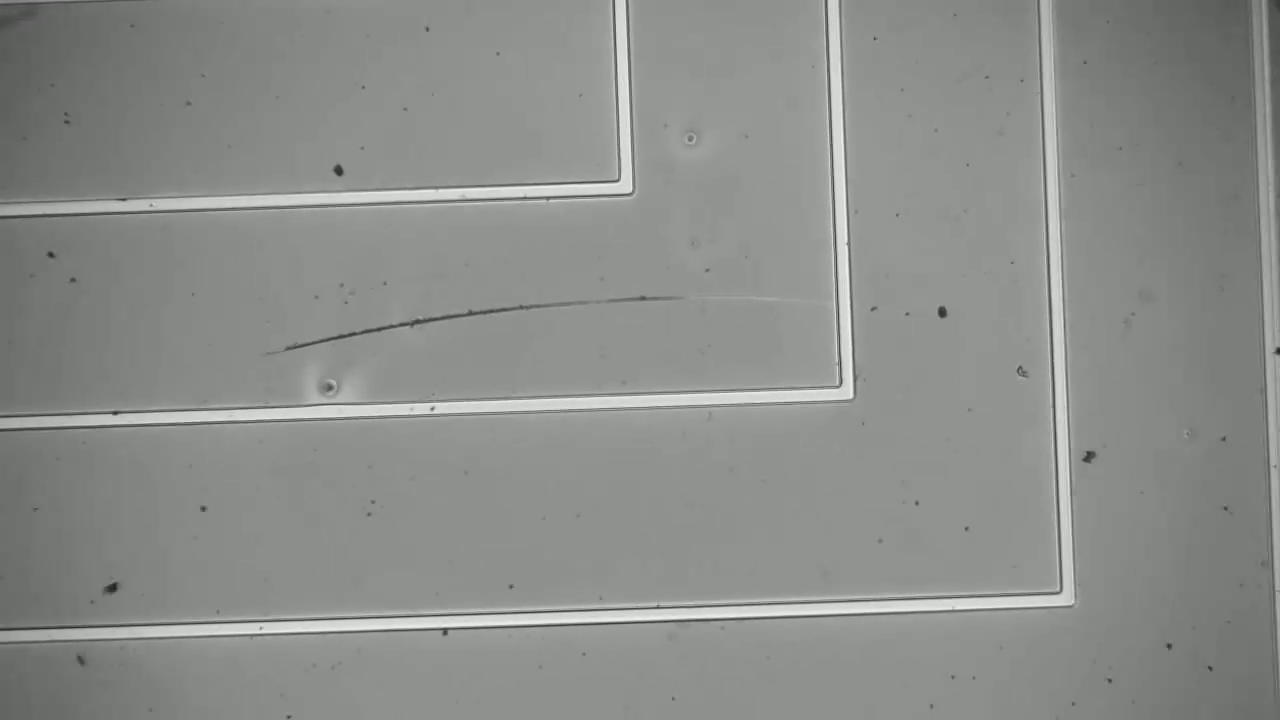scratch: (254, 293, 681, 363)
